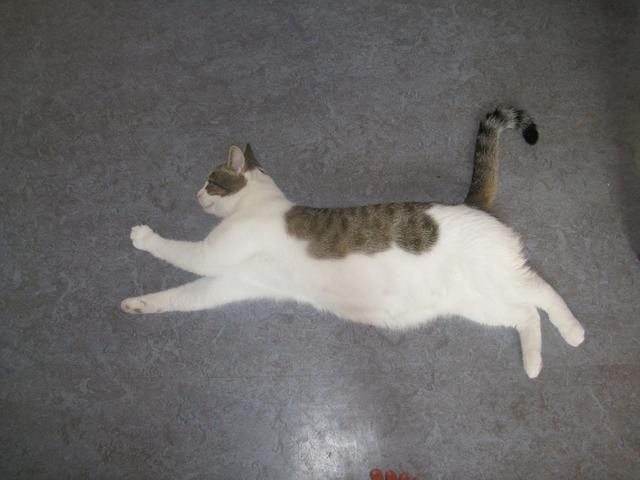cat: (89, 57, 607, 380)
